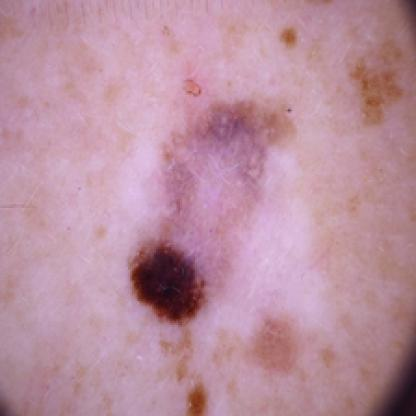Skin_Cancer-Malignant: (131, 240, 214, 326)
